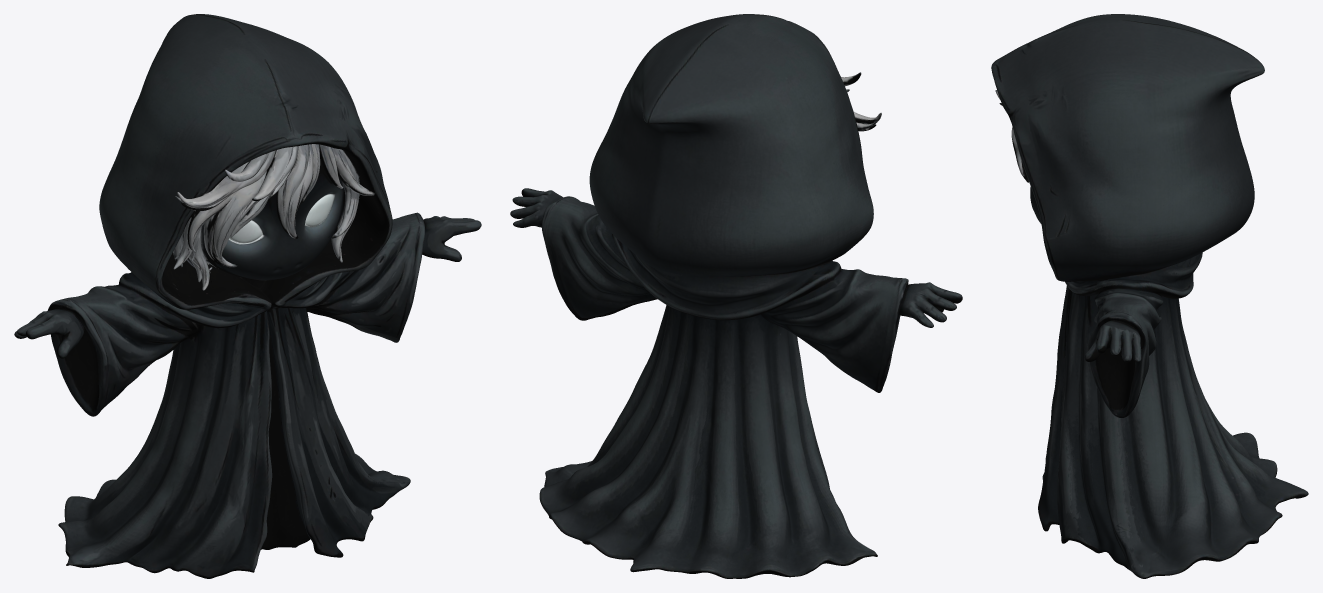
Rendered from hooded_ghost_character_3d_model_Clone1.fbx.
3 views of the same model, side by side, from view 1: azimuth 30°, elevation 25°; view 2: azimuth 150°, elevation 25°; view 3: azimuth 270°, elevation 25° (orthographic). The views are drawn at different scales.
Visible parts, largest first — view 1: tripo_node_f1608964; view 2: tripo_node_f1608964; view 3: tripo_node_f1608964.
Part boxes in pixels (x1,y1,x2,y2): tripo_node_f1608964: (14, 14, 481, 578); tripo_node_f1608964: (510, 14, 962, 578); tripo_node_f1608964: (991, 14, 1308, 578).
Size of the model in its own units: 0.9443 by 1 by 0.5924.
